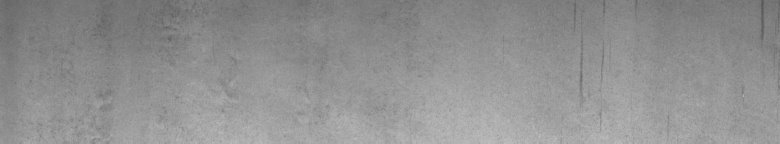ka: (574, 4, 605, 96)
